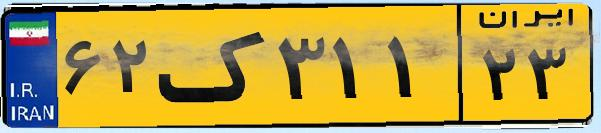1: (385, 28, 445, 110), (330, 28, 385, 110)
2: (475, 38, 525, 113), (110, 28, 158, 98)
3: (270, 28, 330, 110), (525, 38, 570, 115)
6: (57, 26, 110, 100)
ک: (158, 12, 270, 120)
